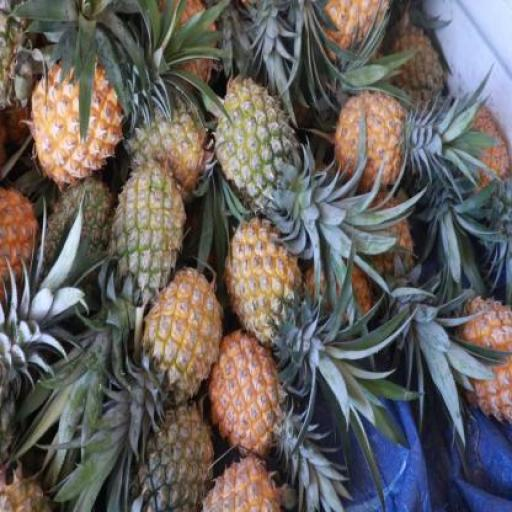------------------------------: (146, 267, 220, 399), (220, 78, 296, 206), (114, 165, 184, 299), (214, 330, 286, 456), (129, 101, 206, 188), (202, 455, 284, 512)
Pineapple - v8 v1: (34, 55, 120, 180), (222, 220, 296, 336), (336, 95, 407, 197)
